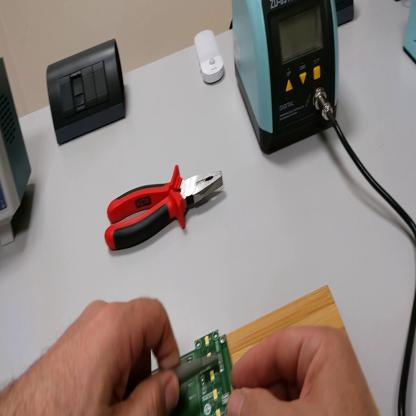hand: (21, 293, 182, 416), (229, 322, 379, 416)
low voltage board: (170, 328, 238, 414)
oscilloscope: (2, 57, 34, 255)
oscilloscope probe tip: (176, 348, 218, 385)
pliers: (105, 159, 223, 253)
socket: (337, 2, 355, 29)
welder base: (404, 2, 416, 70)
welder station: (234, 2, 340, 156)
working area: (231, 282, 352, 367)
